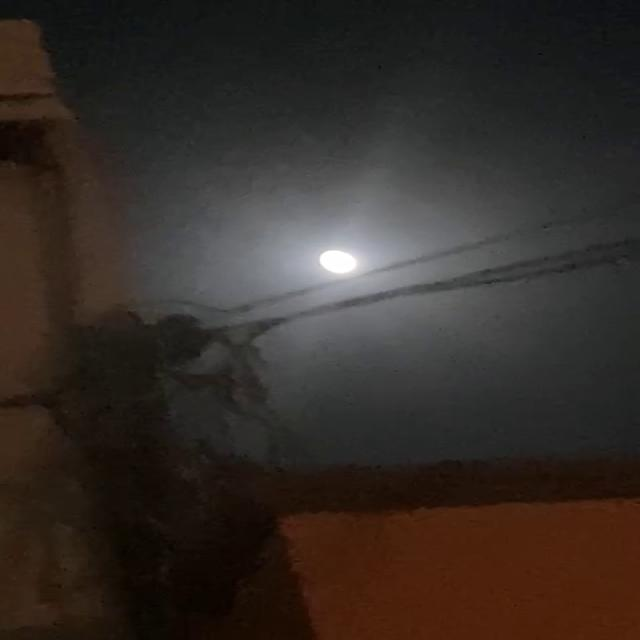moon: (300, 248, 363, 284)
